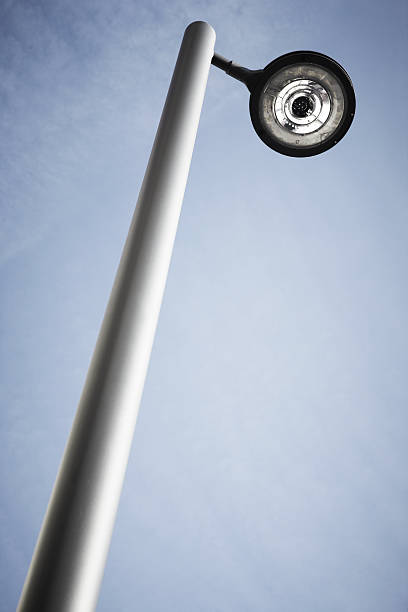light_pole: (23, 27, 224, 612)
